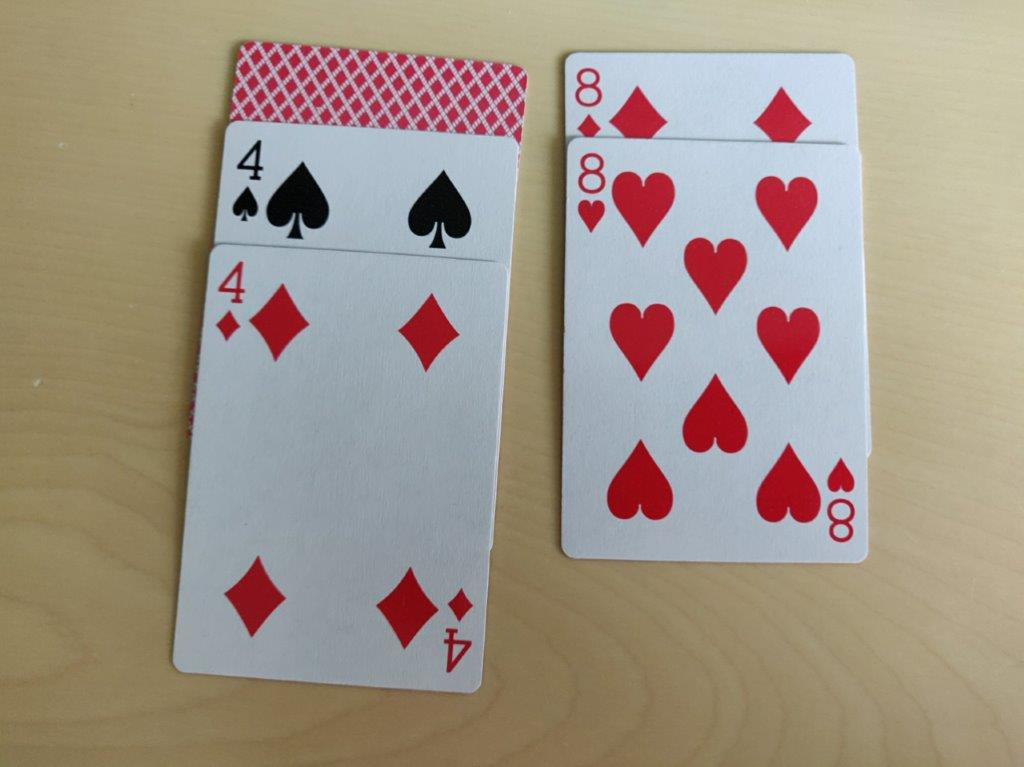4D: (203, 254, 247, 348)
4S: (223, 136, 265, 231)
8D: (566, 57, 610, 137)
8H: (569, 148, 612, 246)
BACK: (225, 33, 524, 142)
